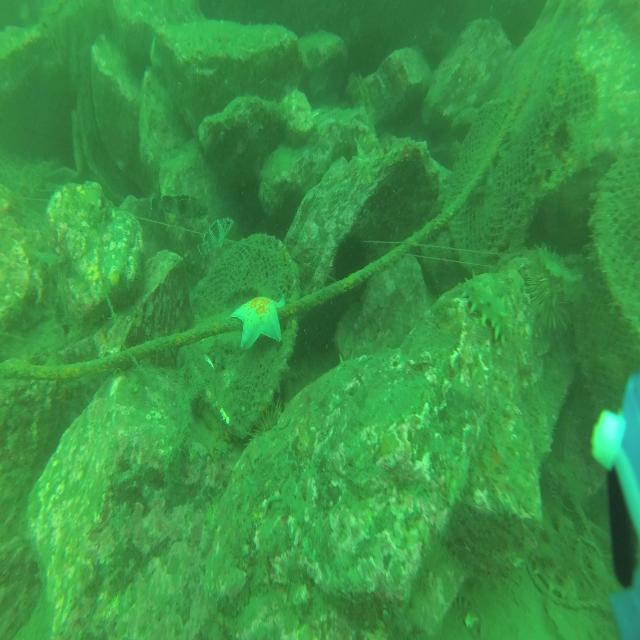echinus: (524, 247, 576, 337), (331, 232, 368, 284)
holothurian: (459, 269, 512, 346)
starfish: (229, 292, 287, 354)
